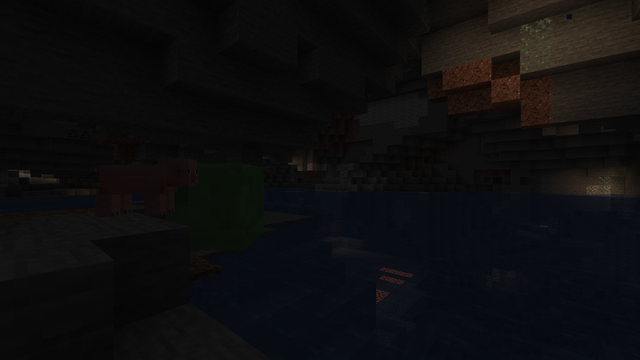cochons: (104, 162, 177, 219)
slimes: (175, 158, 272, 257)
